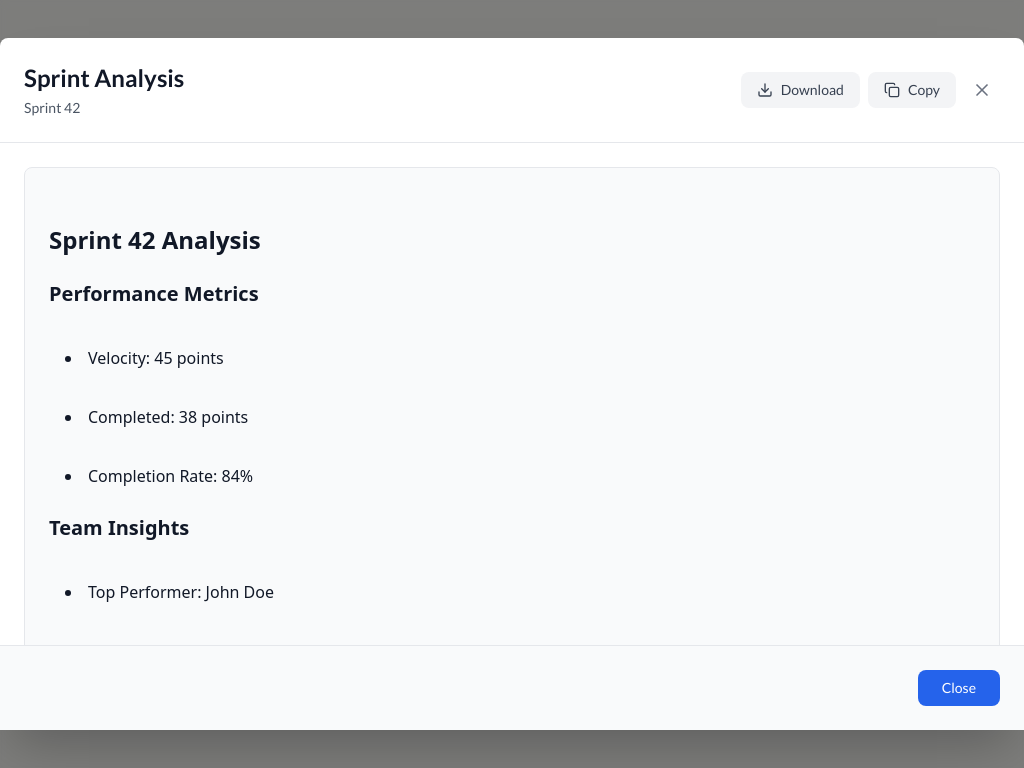
Test: SprintAnalysisModal › should show "Copied!" message after copying
The image size is (1024, 768).
Click the button "Copy" at (912, 90), box [868, 72, 956, 108]
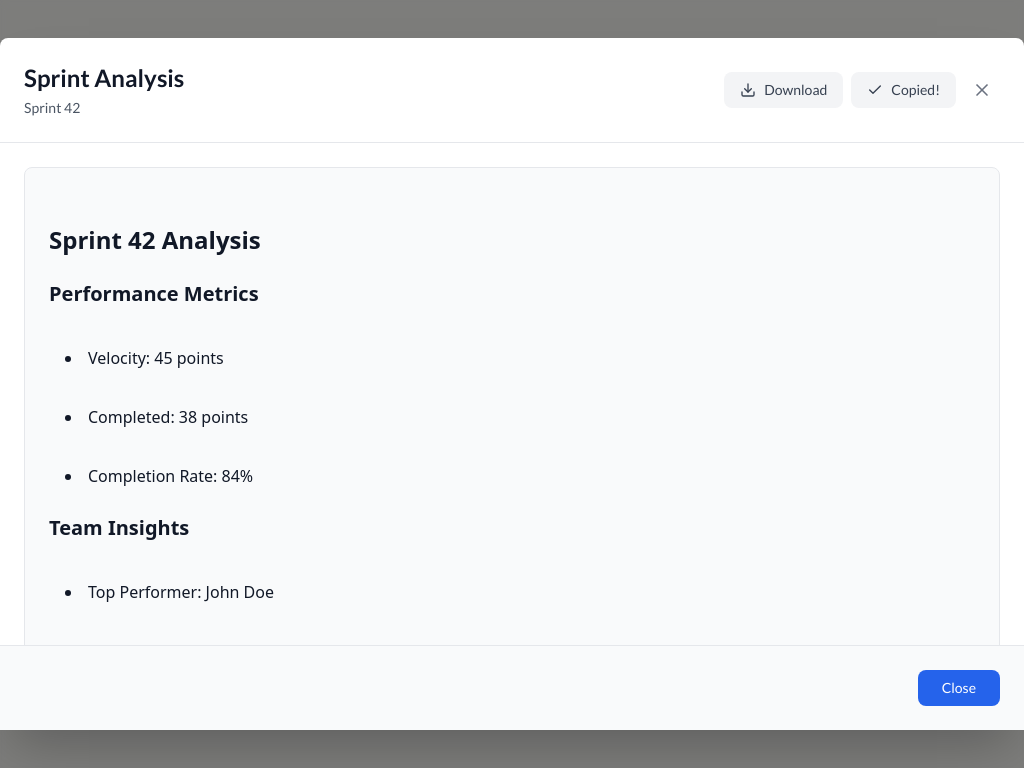
Check: the button "Copied!" is shown, box [851, 72, 956, 108]
